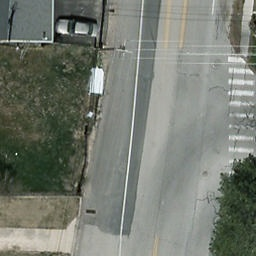car: (55, 19, 100, 40)
